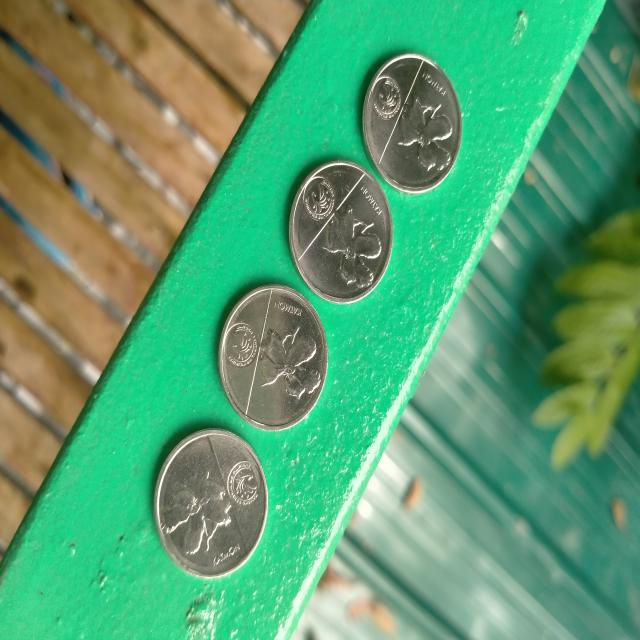25Cent_New_Back: (367, 64, 454, 177), (226, 312, 321, 409)
